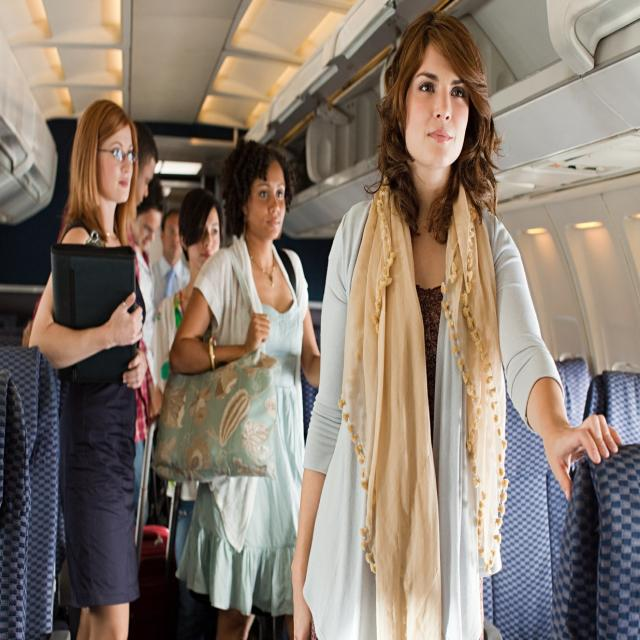body: (286, 6, 627, 640), (162, 139, 322, 635), (24, 92, 150, 639), (147, 185, 224, 640), (122, 113, 192, 611)
